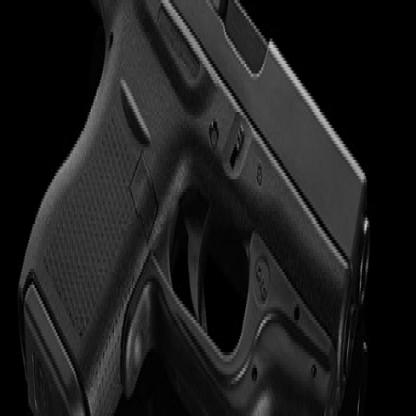gun: (15, 0, 374, 413)
